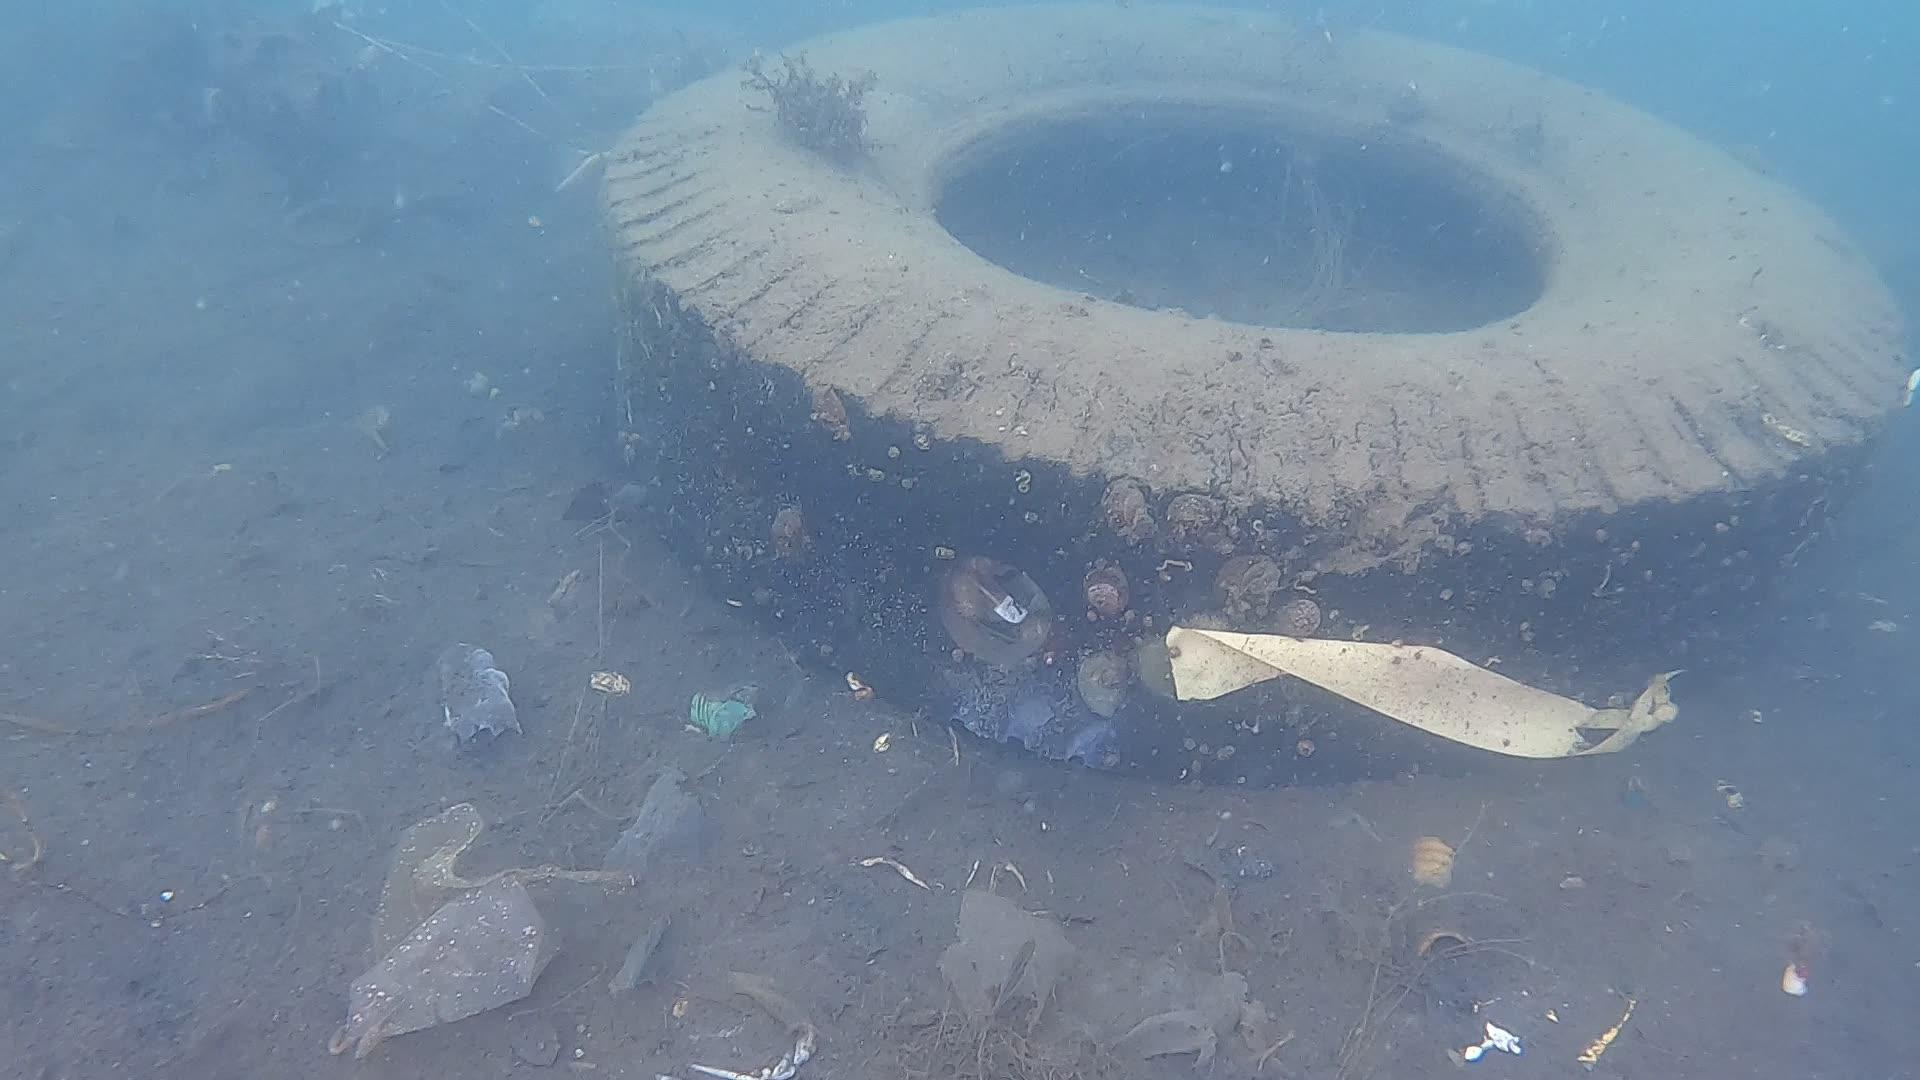tire: (591, 0, 1920, 785)
